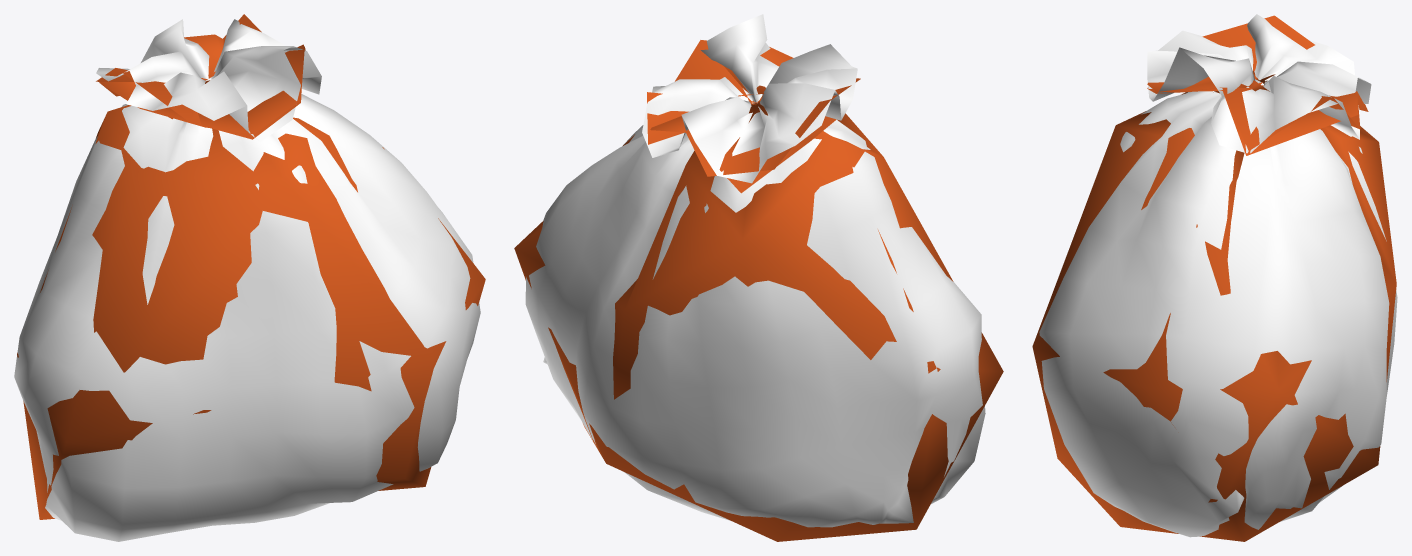
Rendered from Garbage_bag_01.fbx.
The picture shows the model from 3 angles, left to right: view 1: azimuth 30°, elevation 25°; view 2: azimuth 150°, elevation 25°; view 3: azimuth 270°, elevation 25°; orthographic projection. The views are drawn at different scales.
Parts seen in each view (by area): view 1: garbagebags_blue_01_LOD0, UTM_garbagebags_blue_01_LOD0; view 2: garbagebags_blue_01_LOD0, UTM_garbagebags_blue_01_LOD0; view 3: garbagebags_blue_01_LOD0, UTM_garbagebags_blue_01_LOD0.
Boxes of the visible parts, x1=… form: garbagebags_blue_01_LOD0: x1=14, y1=19, x2=480, y2=541; UTM_garbagebags_blue_01_LOD0: x1=17, y1=14, x2=485, y2=519; garbagebags_blue_01_LOD0: x1=525, y1=14, x2=985, y2=527; UTM_garbagebags_blue_01_LOD0: x1=514, y1=40, x2=1003, y2=541; garbagebags_blue_01_LOD0: x1=1039, y1=14, x2=1397, y2=537; UTM_garbagebags_blue_01_LOD0: x1=1032, y1=15, x2=1396, y2=541.
Size of what is drawn, in the model's own units: 49.8 by 49.14 by 36.67.
